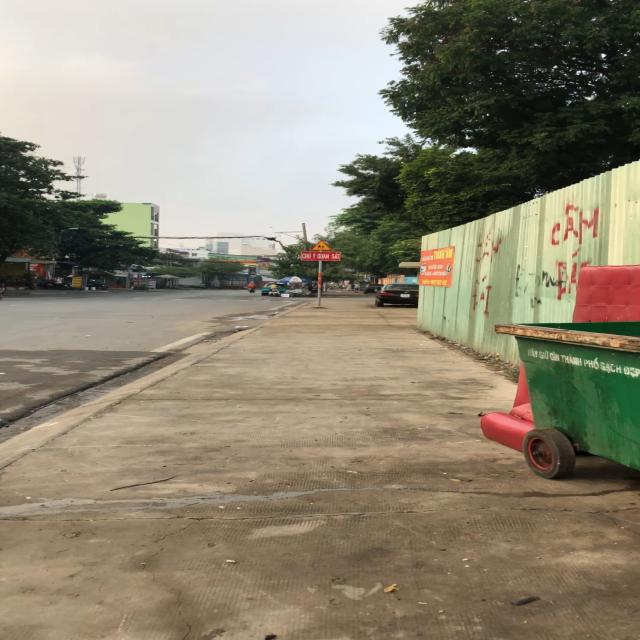Bien bao tre em: (308, 238, 333, 251)
